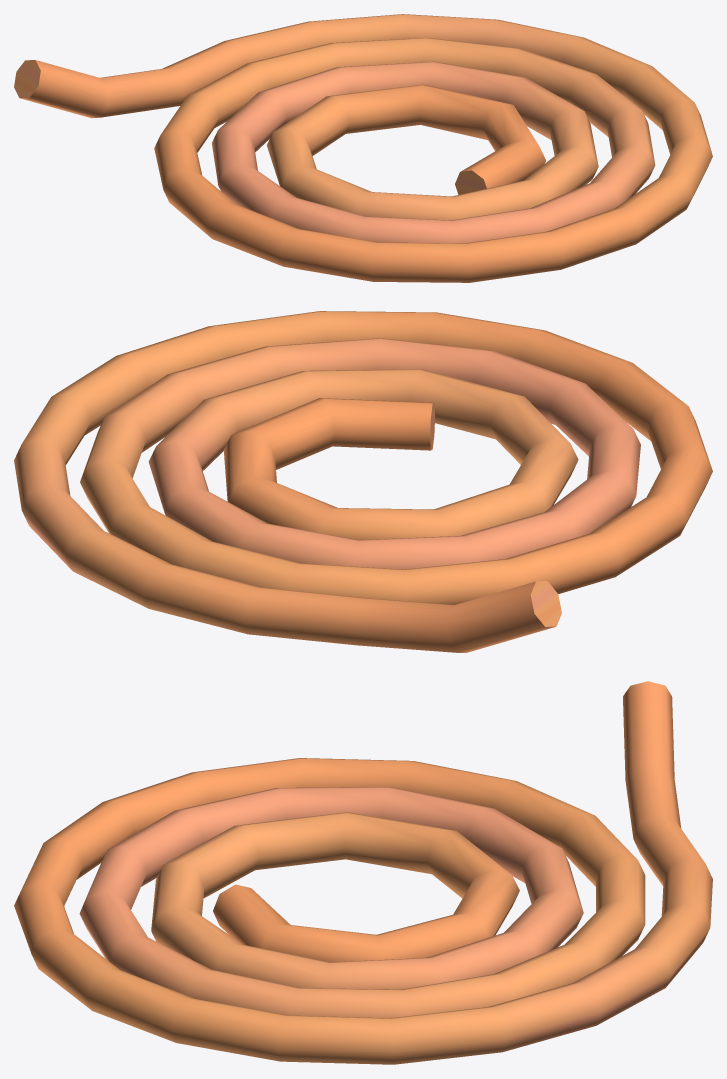
Rendered from static.fbx.
The picture shows the model from 3 angles, top to bottom: view 1: azimuth 30°, elevation 25°; view 2: azimuth 150°, elevation 25°; view 3: azimuth 270°, elevation 25°; orthographic projection. The views are drawn at different scales.
Parts seen in each view (by area): view 1: Sweep; view 2: Sweep; view 3: Sweep.
Part boxes in pixels (box(x1,y1,x2,y2)): Sweep: box(14, 14, 712, 282); Sweep: box(14, 311, 712, 652); Sweep: box(14, 681, 712, 1064).
Bounding box in the file's own units: 85.53 × 12.88 × 83.02.
Materials: 1 (1 with a texture image).
